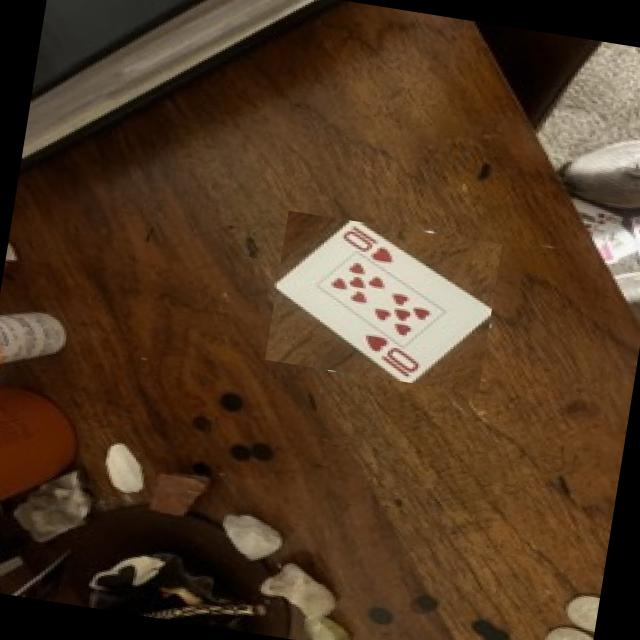10 of hearts: (277, 220, 492, 381)
